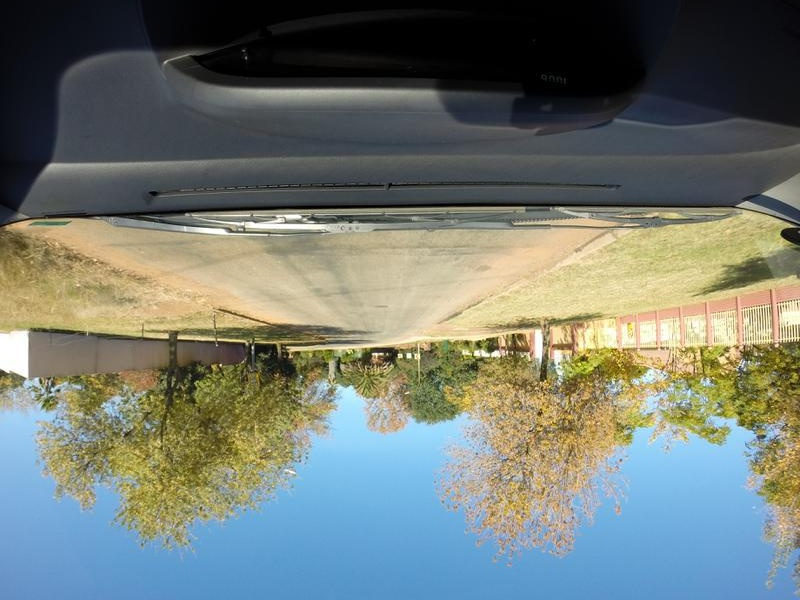pothole: (371, 302, 385, 310)
